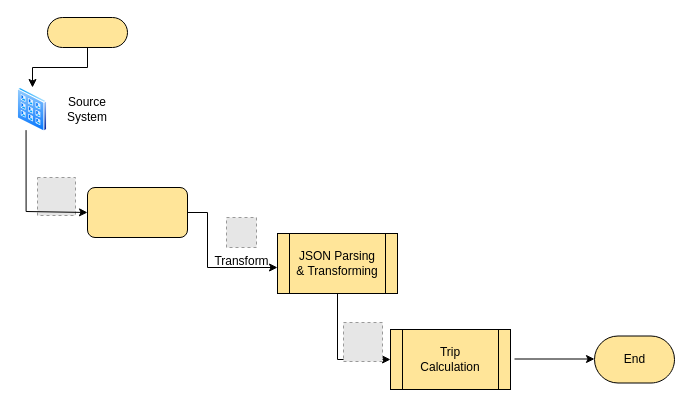
Image size: 692x407. Some labels were removed from this diagram. Grey dashed boxes stand in for pictures. Each missing label, with the centre of its shape:
Camel File Processor: the point at 137,212
Start: the point at 87,32
